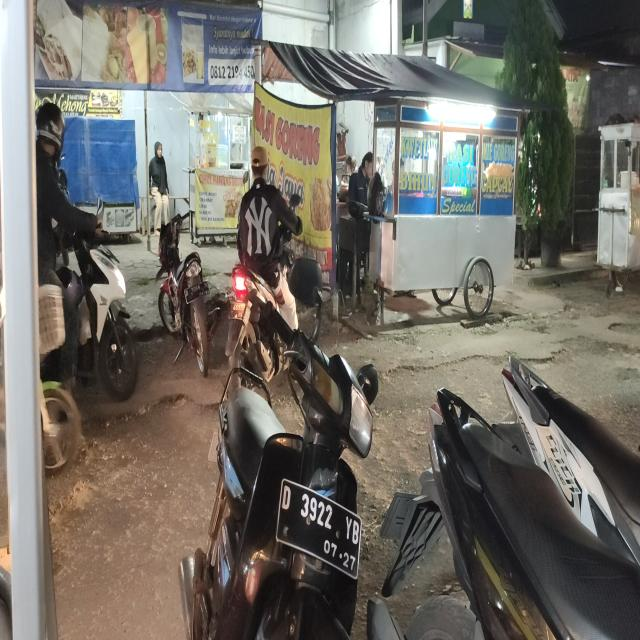helmet: (35, 102, 65, 160)
no-helmet: (250, 147, 268, 176)
